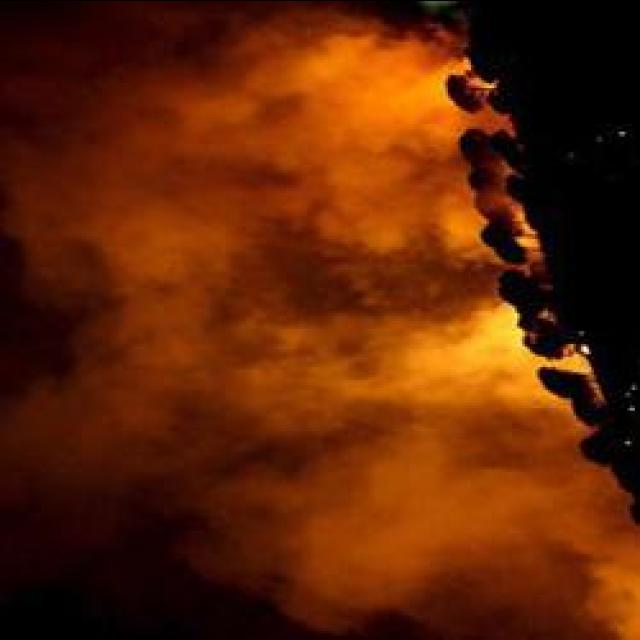smoke: (17, 78, 245, 308), (237, 466, 479, 640), (235, 8, 442, 172), (66, 352, 262, 510), (488, 460, 640, 640), (240, 314, 453, 442), (282, 148, 460, 278), (412, 331, 522, 431)
